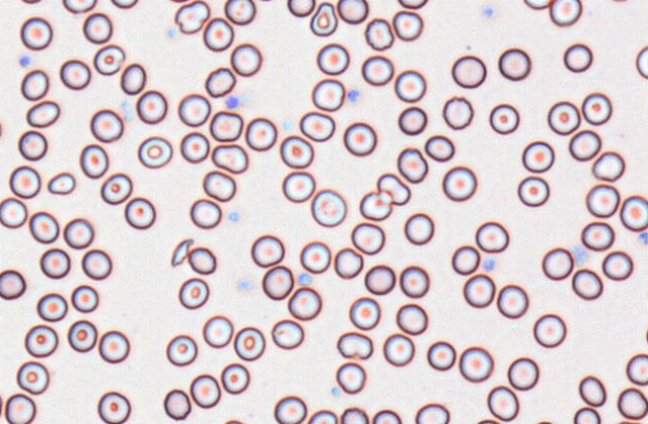PLT: (481, 256, 500, 273), (346, 87, 362, 106), (296, 273, 314, 287), (225, 95, 241, 110), (236, 278, 252, 292), (17, 55, 32, 68), (482, 5, 497, 18), (637, 231, 648, 248), (228, 210, 241, 222), (281, 119, 293, 131), (331, 387, 343, 399), (166, 28, 179, 38)
RBC: (310, 188, 346, 227), (441, 165, 477, 201), (458, 346, 493, 382), (287, 286, 322, 320), (451, 54, 486, 88), (585, 183, 620, 217), (486, 385, 519, 421), (279, 134, 313, 168), (177, 93, 211, 127), (89, 108, 123, 142), (497, 47, 531, 81), (462, 273, 495, 308), (343, 121, 376, 156), (547, 100, 580, 135), (137, 135, 172, 168), (396, 147, 428, 183), (16, 360, 49, 394), (24, 324, 58, 357), (533, 313, 566, 347), (311, 78, 345, 111), (350, 221, 384, 254), (19, 16, 52, 50), (541, 246, 574, 280), (250, 234, 284, 267), (202, 16, 234, 51), (261, 265, 293, 300), (189, 373, 221, 408), (233, 326, 265, 361), (135, 89, 167, 124), (245, 116, 277, 151), (299, 110, 335, 141), (211, 143, 248, 173), (316, 42, 349, 75), (202, 170, 236, 202), (507, 356, 539, 390), (97, 391, 131, 423), (281, 170, 315, 202), (348, 296, 380, 330), (382, 332, 414, 366), (496, 284, 528, 318), (591, 150, 625, 182), (230, 42, 262, 76), (619, 194, 648, 231), (8, 165, 40, 198), (395, 303, 428, 335), (521, 140, 554, 172), (568, 129, 601, 161), (299, 240, 331, 273), (394, 69, 426, 102), (98, 329, 129, 363), (209, 110, 243, 141), (475, 221, 509, 252), (580, 220, 614, 251), (202, 314, 233, 348), (442, 95, 473, 129), (571, 268, 603, 300), (59, 58, 91, 90), (100, 172, 132, 204), (359, 189, 392, 220), (335, 361, 366, 394), (403, 212, 434, 245), (361, 54, 394, 85), (124, 196, 155, 229), (581, 92, 612, 125), (79, 143, 108, 178), (617, 387, 648, 419), (204, 66, 236, 97), (39, 247, 70, 279), (81, 248, 112, 280), (63, 217, 94, 249), (189, 198, 221, 229), (28, 211, 59, 243), (178, 277, 209, 309), (166, 334, 197, 366), (93, 44, 125, 75), (517, 175, 549, 206), (392, 9, 423, 41), (67, 319, 97, 352), (271, 319, 304, 349), (364, 17, 394, 50), (399, 265, 429, 298), (364, 264, 395, 295), (488, 103, 519, 134), (4, 393, 36, 423), (601, 250, 633, 280), (179, 131, 209, 163), (273, 395, 307, 423), (82, 12, 112, 43), (334, 247, 363, 279), (220, 362, 249, 394), (20, 68, 49, 100), (26, 100, 60, 127), (426, 340, 456, 370), (17, 130, 47, 160), (451, 244, 480, 275), (36, 292, 67, 321), (163, 388, 191, 420), (397, 106, 427, 135), (563, 42, 592, 72), (578, 375, 606, 406), (120, 62, 146, 95), (549, 0, 582, 26), (424, 134, 454, 162), (0, 197, 27, 228), (70, 284, 98, 313), (187, 246, 216, 274), (0, 268, 26, 299), (224, 0, 255, 25), (336, 0, 368, 24), (625, 353, 648, 385), (414, 402, 449, 423), (47, 171, 75, 195), (573, 406, 601, 423), (287, 0, 315, 17), (340, 406, 368, 423), (62, 0, 97, 13), (635, 45, 648, 79), (307, 409, 337, 423), (371, 409, 401, 423), (397, 0, 428, 9), (523, 0, 552, 9), (110, 0, 138, 9), (613, 419, 644, 424), (476, 418, 500, 423), (223, 419, 244, 424), (532, 420, 556, 424), (20, 0, 43, 4), (166, 0, 192, 3), (0, 393, 3, 418), (0, 117, 3, 140), (645, 322, 648, 345), (603, 0, 633, 2), (255, 0, 278, 1)
Schistocyte: (376, 173, 411, 208), (174, 1, 210, 34), (335, 332, 373, 362), (308, 3, 339, 36), (170, 238, 194, 267)
